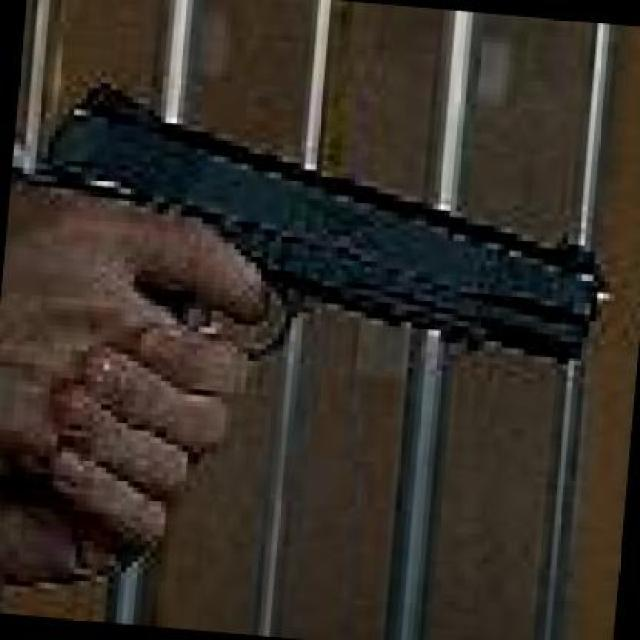rifle: (11, 80, 606, 365)
